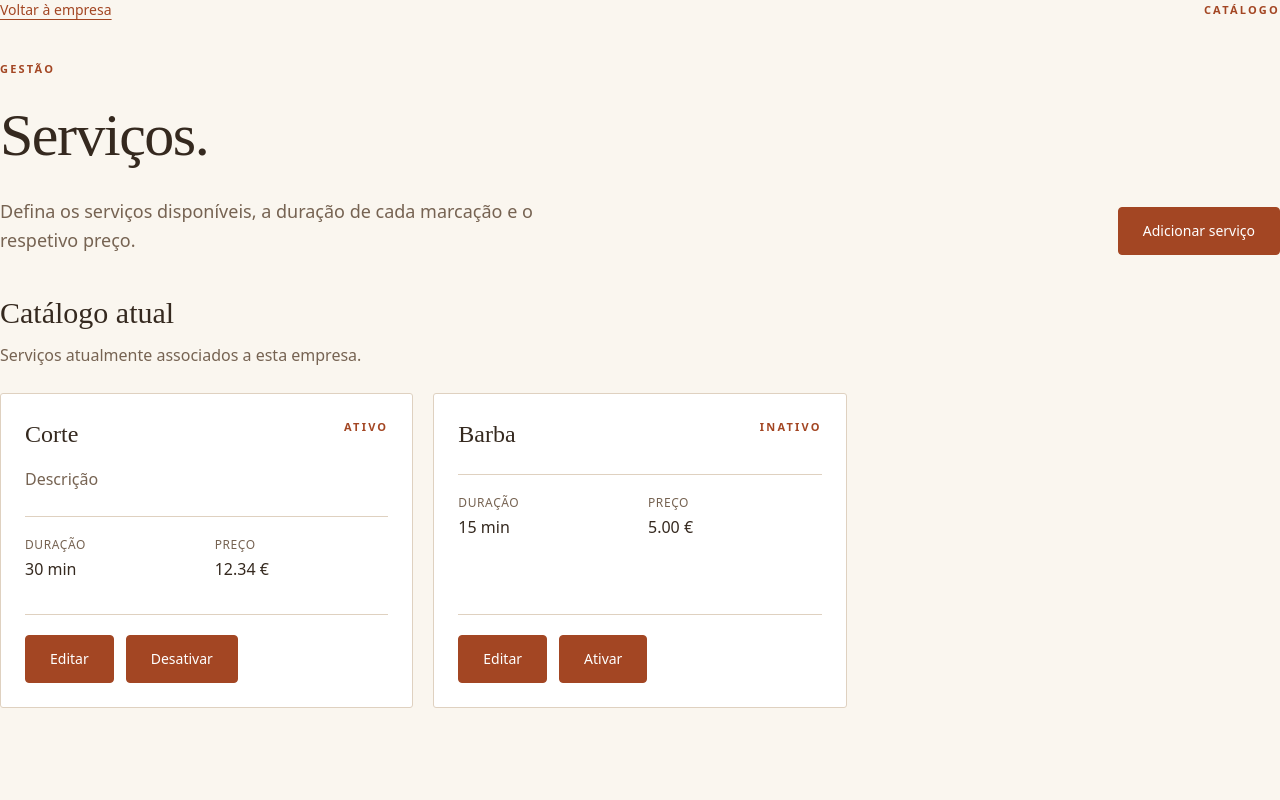
ServicesPage › preenche edição, preserva dados após erro e permite guardar novamente
The image size is (1280, 800).
Click the button "Editar" below "30": coordinates (69, 660) [25, 636, 114, 684]
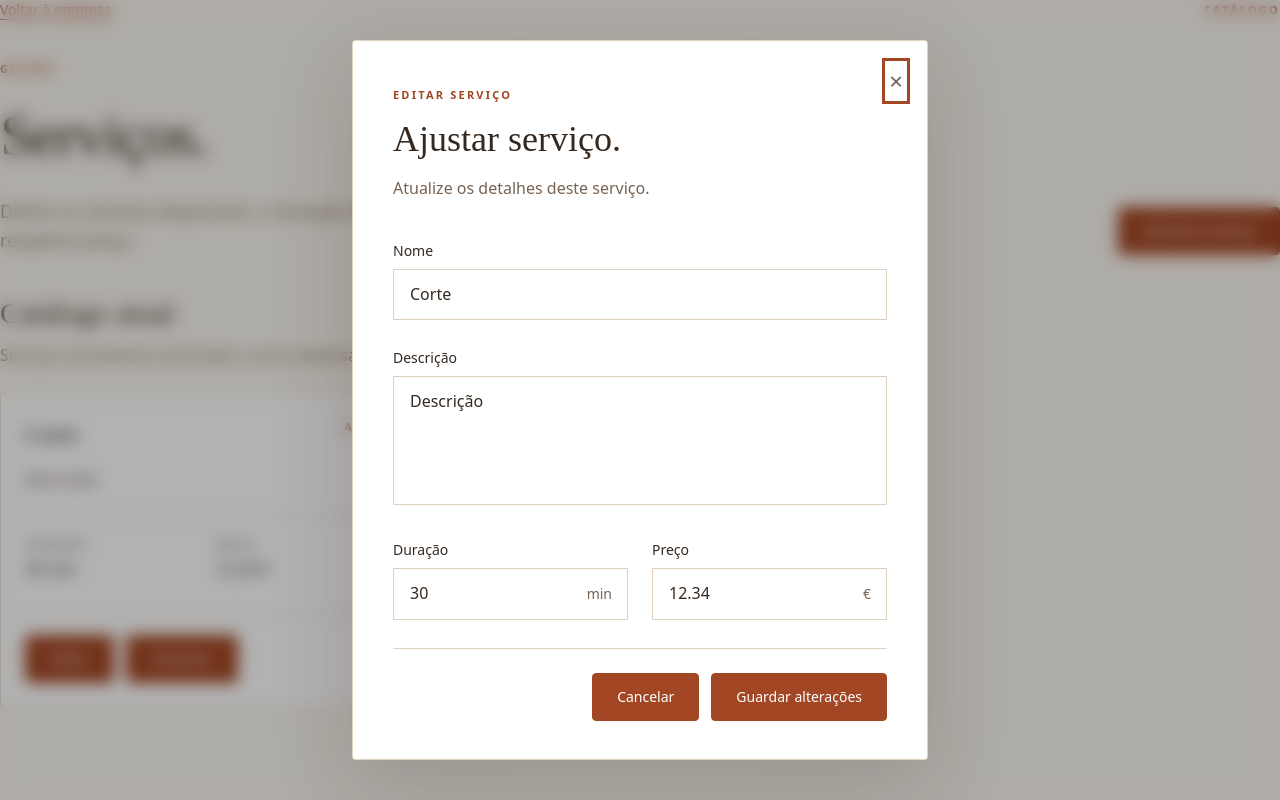
Expected: the number field labelled "Preço" holds "12.34", [652, 568, 887, 620]
Replace the text in the field labelled "Nome" with "Editado": coordinates (640, 294) [393, 269, 887, 320]
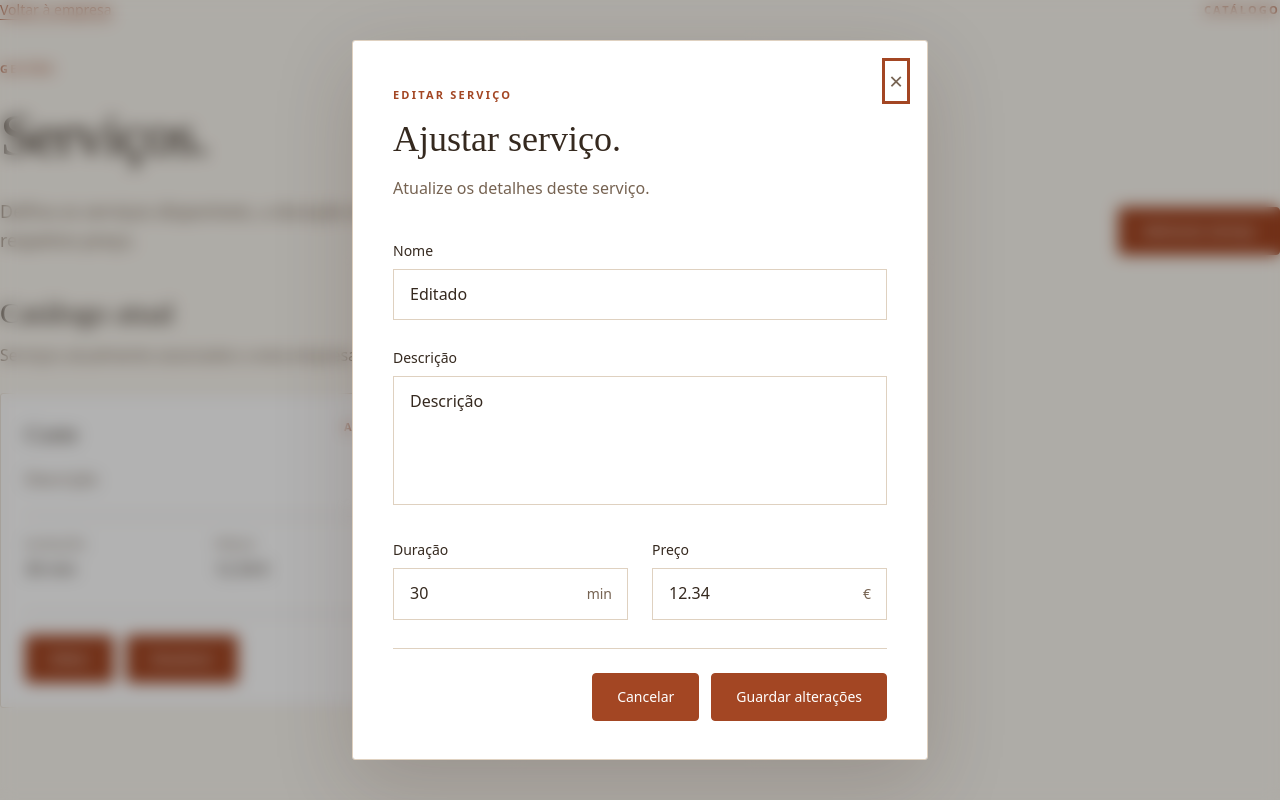
Clear the text box labelled "Descrição": coordinates (640, 440) [393, 376, 887, 505]
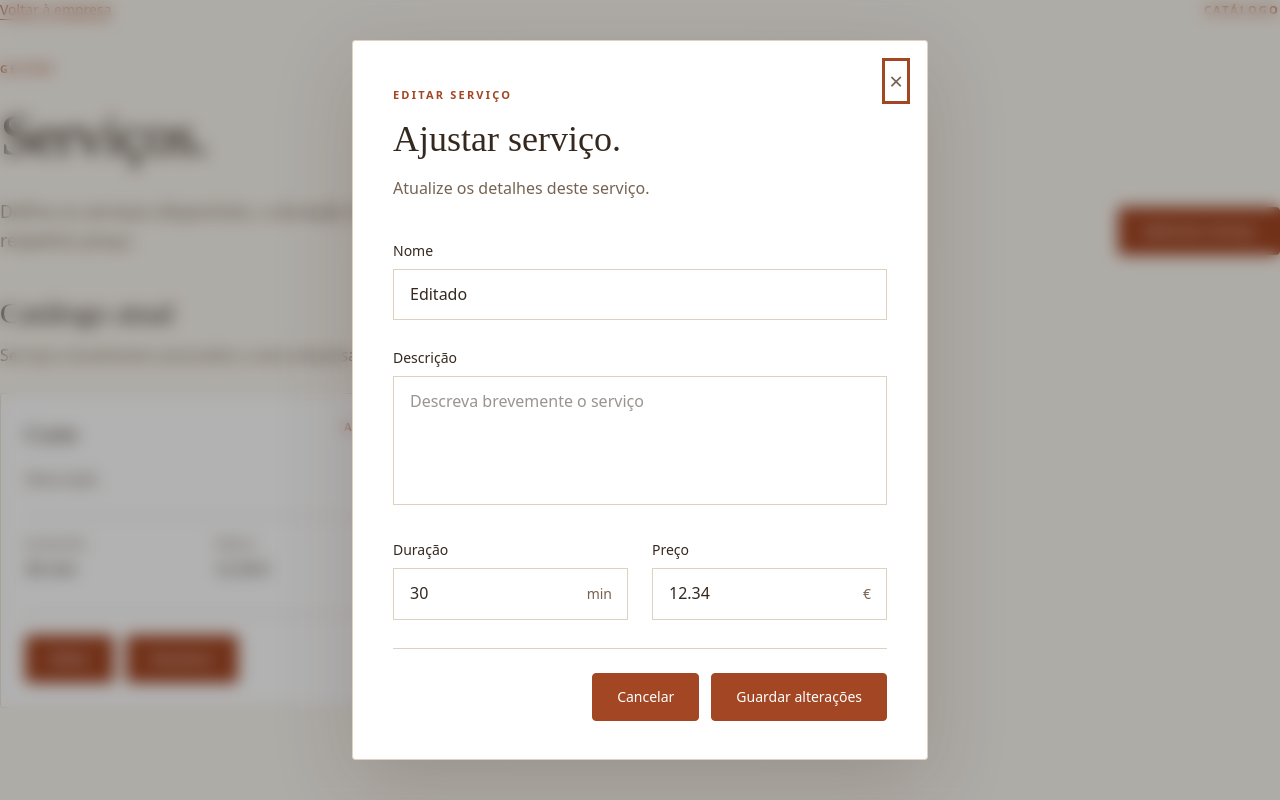
Click the button "Guardar alterações": coordinates (799, 697) [711, 673, 887, 721]
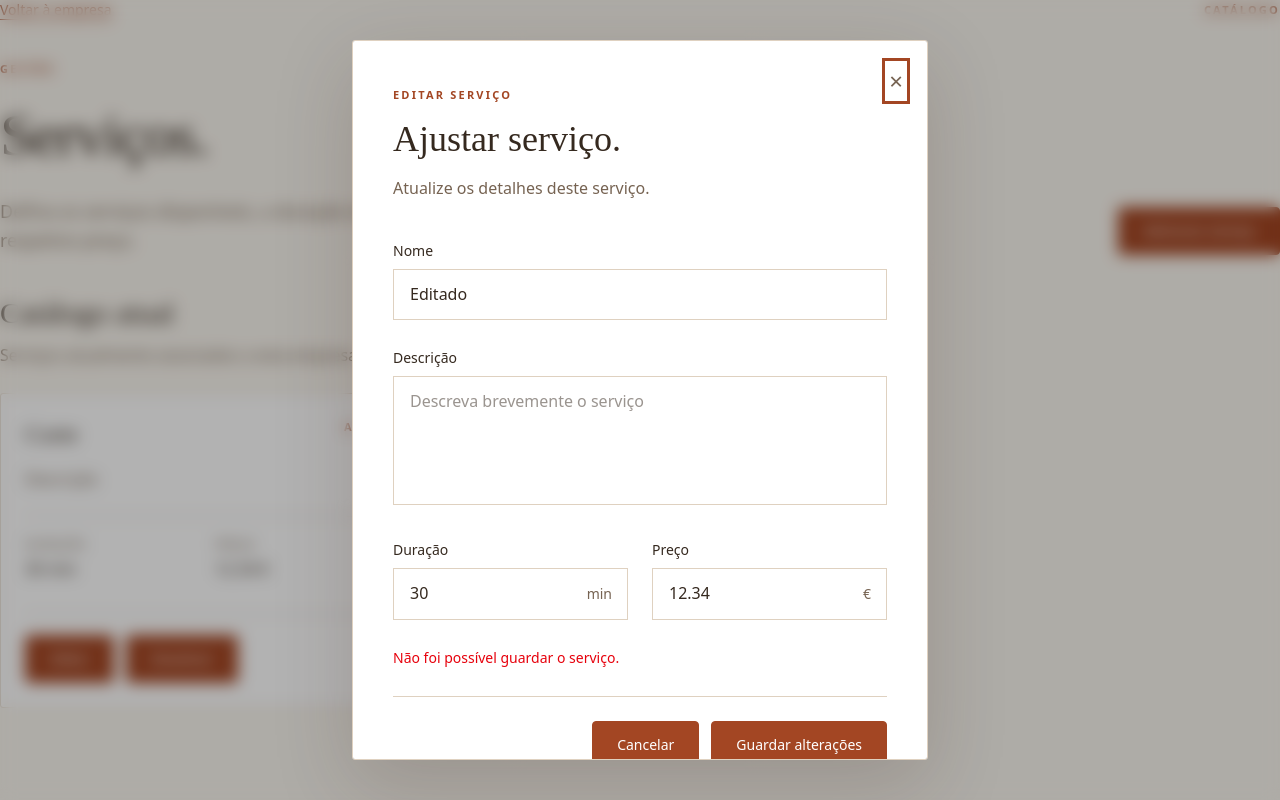
Expected: the text "Não foi possível guardar o serviço." is shown, [393, 648, 619, 667]
Click the button "Guardar alterações": coordinates (799, 745) [711, 721, 887, 769]
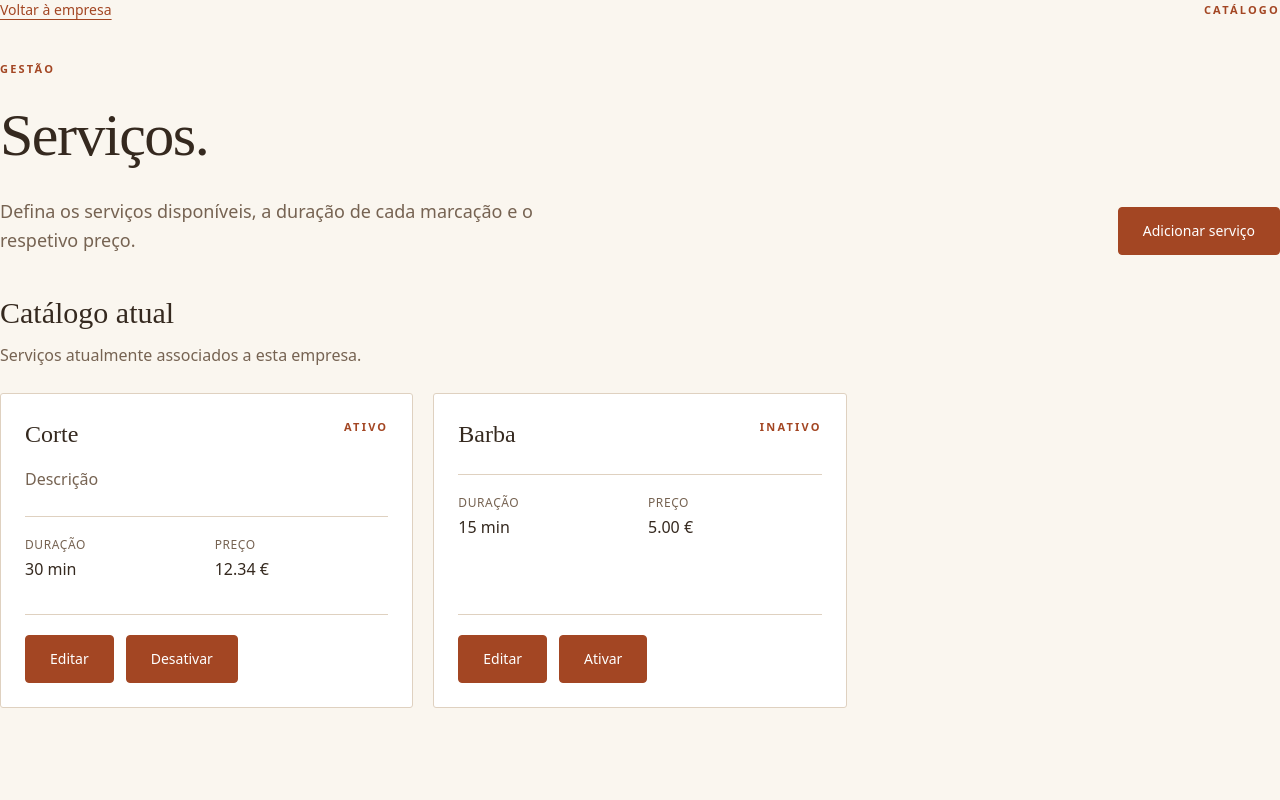
Expected: the dialog is gone
